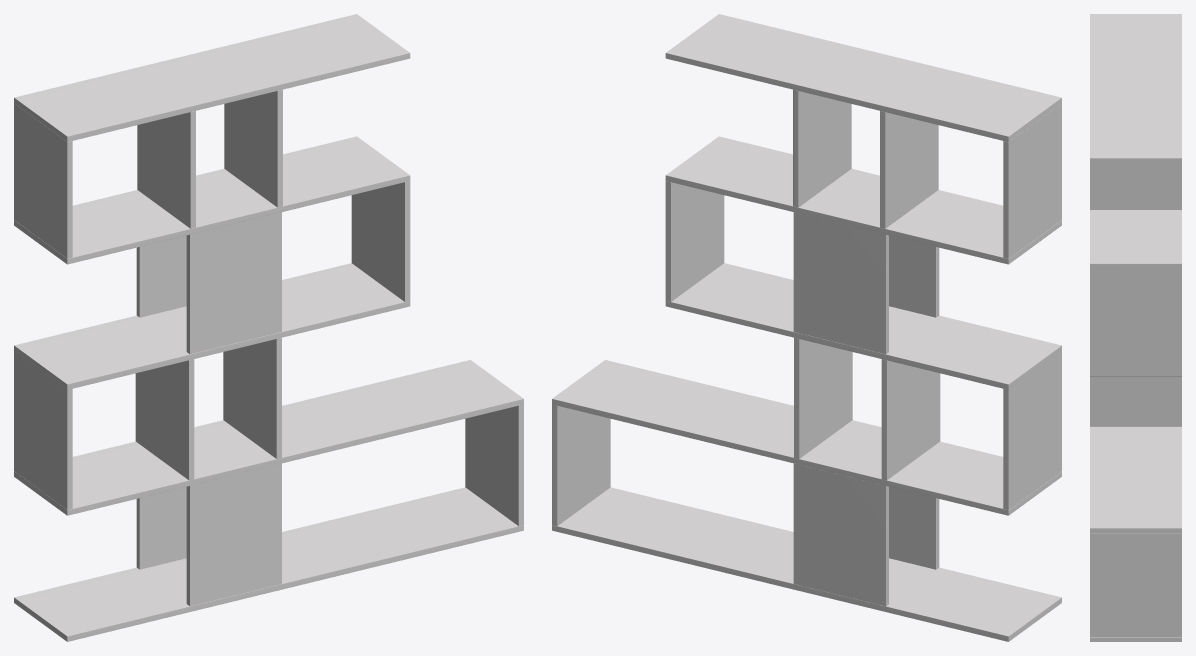
3 views of the same model, side by side, from view 1: azimuth 30°, elevation 25°; view 2: azimuth 150°, elevation 25°; view 3: azimuth 270°, elevation 25° (orthographic). The views are drawn at different scales.
Visible parts, largest first — view 1: polySurface15, polySurface17, polySurface13, polySurface14, polySurface12, polySurface1, polySurface10, polySurface9, polySurface4, polySurface6, polySurface5, polySurface3 (+5 smaller); view 2: polySurface15, polySurface17, polySurface13, polySurface14, polySurface12, polySurface7, polySurface16, polySurface9, polySurface4, polySurface6, polySurface5, polySurface3 (+5 smaller); view 3: polySurface13, polySurface15, polySurface3, polySurface5, polySurface14, polySurface8, polySurface2, polySurface12, polySurface17.
Part boxes in pixels (x1,y1,x2,y2): polySurface15: [14, 360, 523, 515]; polySurface17: [14, 487, 523, 641]; polySurface13: [14, 14, 410, 141]; polySurface14: [14, 136, 410, 264]; polySurface12: [14, 263, 410, 389]; polySurface1: [186, 463, 281, 606]; polySurface10: [186, 212, 281, 354]; polySurface9: [14, 351, 72, 509]; polySurface4: [14, 103, 72, 258]; polySurface6: [135, 359, 194, 480]; polySurface5: [351, 181, 410, 301]; polySurface3: [465, 404, 523, 526]; polySurface15: [552, 360, 1061, 515]; polySurface17: [552, 487, 1061, 641]; polySurface13: [665, 14, 1061, 141]; polySurface14: [665, 136, 1061, 264]; polySurface12: [665, 263, 1061, 389]; polySurface7: [793, 463, 888, 606]; polySurface16: [793, 212, 888, 354]; polySurface9: [1003, 351, 1061, 509]; polySurface4: [1003, 103, 1061, 258]; polySurface6: [881, 359, 940, 480]; polySurface5: [665, 181, 724, 301]; polySurface3: [552, 404, 610, 526]; polySurface13: [1090, 14, 1181, 162]; polySurface15: [1090, 426, 1181, 532]; polySurface3: [1090, 533, 1181, 636]; polySurface5: [1090, 268, 1181, 371]; polySurface14: [1090, 210, 1181, 268]; polySurface8: [1090, 377, 1181, 426]; polySurface2: [1090, 163, 1181, 209]; polySurface12: [1090, 372, 1181, 376]; polySurface17: [1090, 637, 1181, 641].
Size of the model in its own units: 1.38 by 1.46 by 0.28.
Materials: 1 (1 with a texture image).
